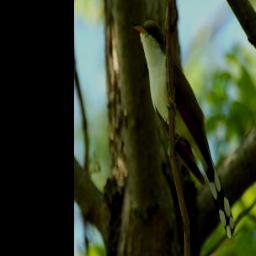Cuckoo: (133, 19, 234, 236)
